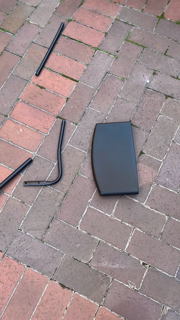Back: (90, 121, 142, 200)
L pipe: (20, 119, 71, 190)
i pipe: (33, 21, 69, 81)
